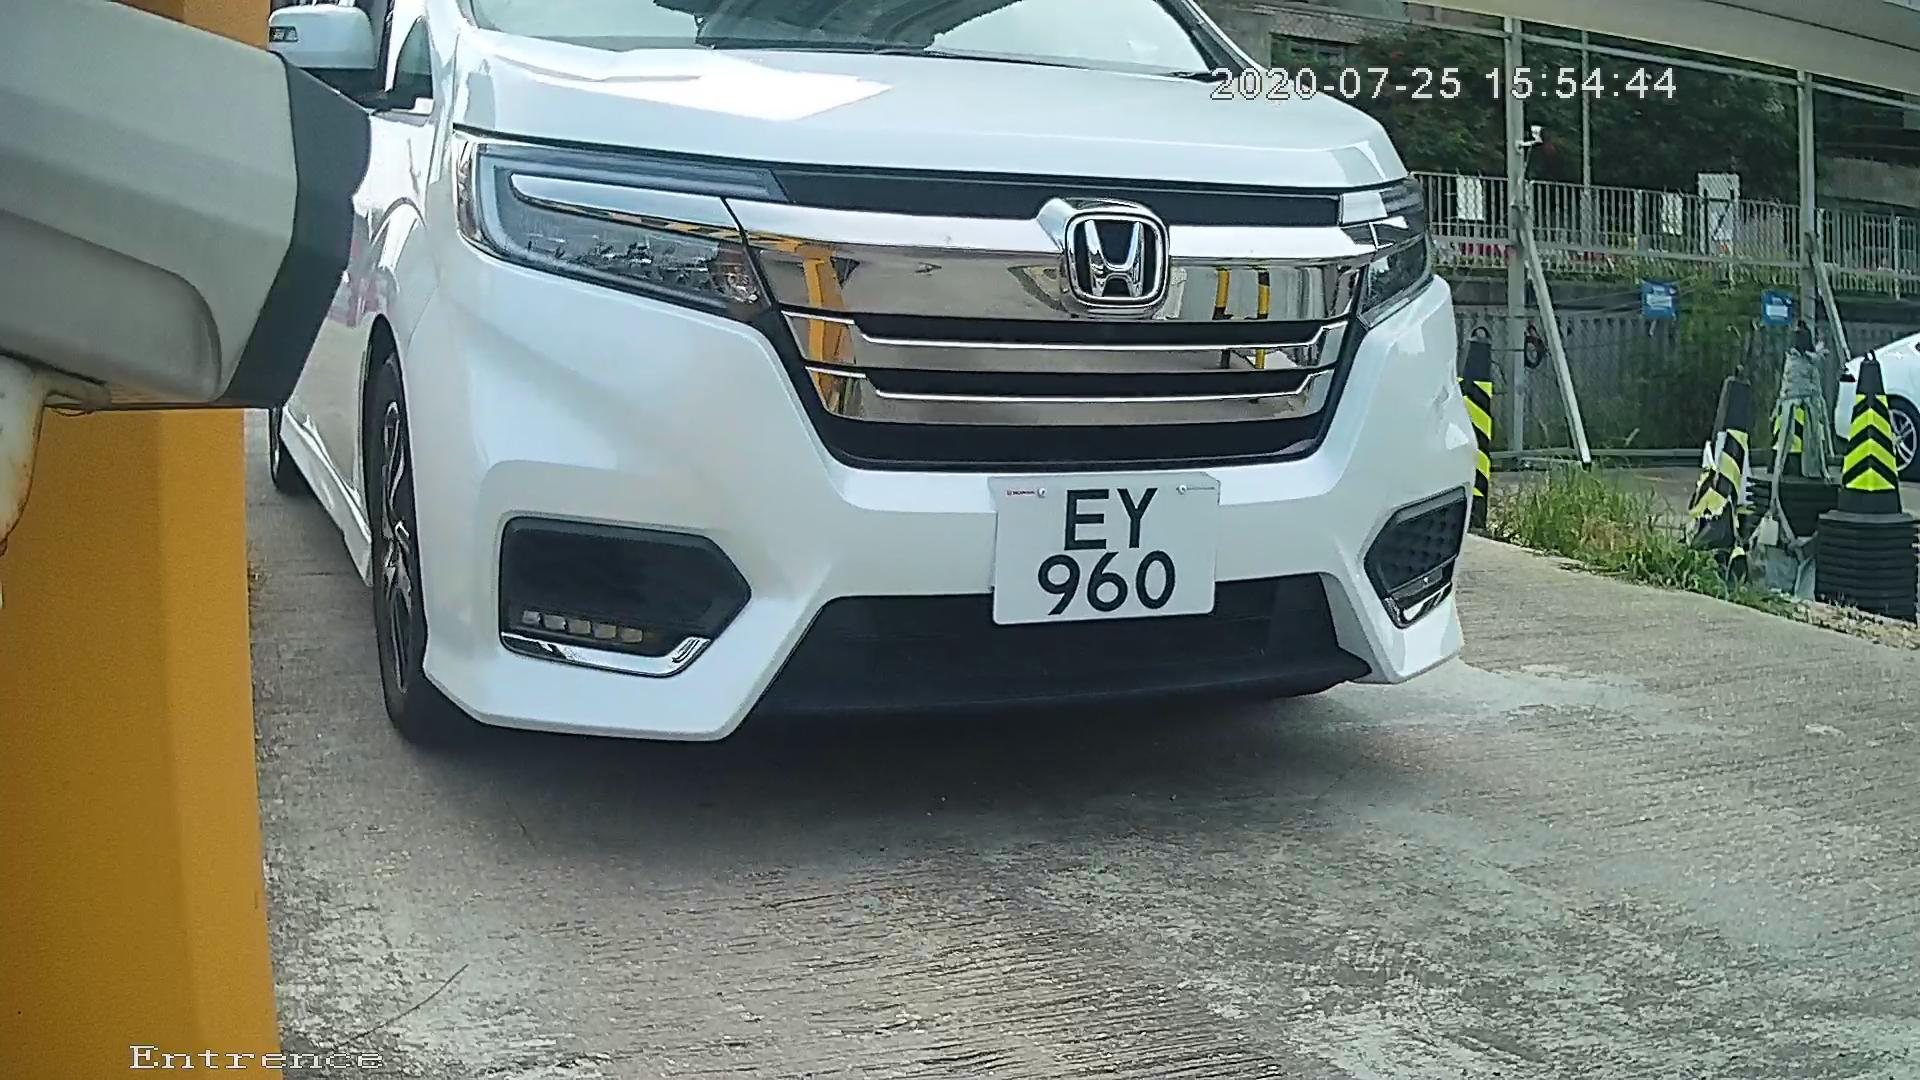License Plate: (978, 459, 1226, 642)
